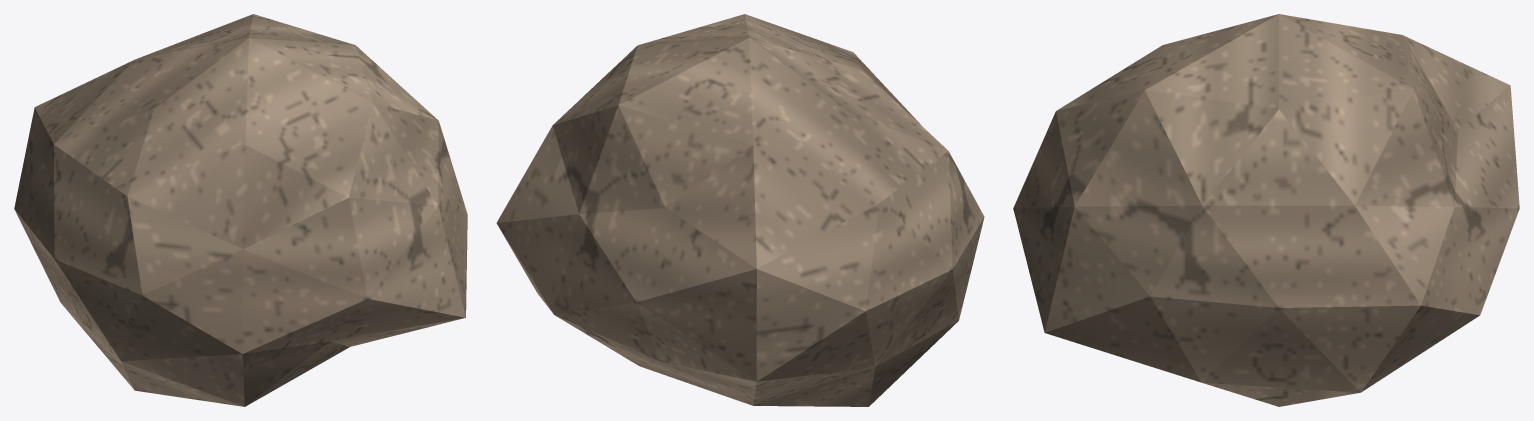
Rendered from boulderLarge.glb.
The picture shows the model from 3 angles, left to right: view 1: azimuth 30°, elevation 25°; view 2: azimuth 150°, elevation 25°; view 3: azimuth 270°, elevation 25°; orthographic projection. The views are drawn at different scales.
Visible parts, largest first — view 1: boulderLarge; view 2: boulderLarge; view 3: boulderLarge.
Part boxes in pixels (<box>): boulderLarge: <box>14,14,467,406</box>; boulderLarge: <box>496,14,984,406</box>; boulderLarge: <box>1013,14,1519,406</box>.
Size of the model in its own units: 1.76 by 1.47 by 1.84.
1 material, 1 textured.
